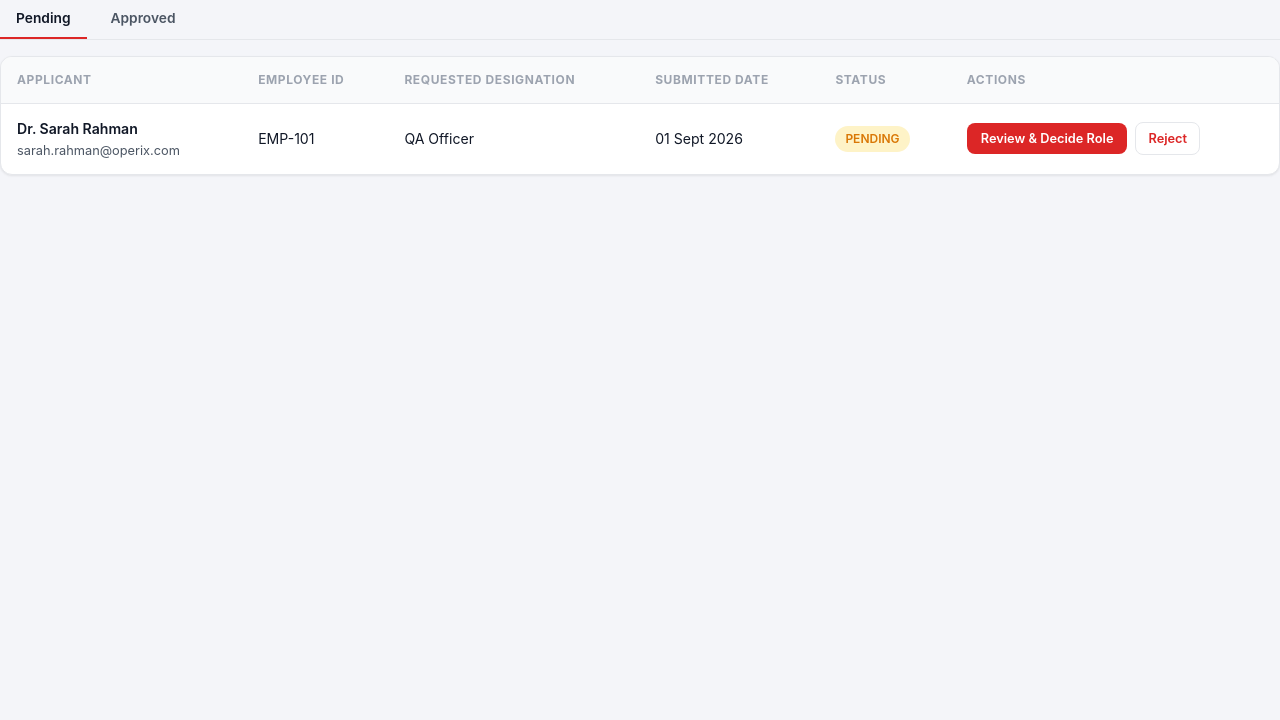
it: RegistrationRequests › reports the truthful approval outcome instead of claiming delivery
The image size is (1280, 720).
Click the button "Review & Decide Role". click: click(1047, 139)
box: left=967, top=123, right=1128, bottom=154
(page scrolled)
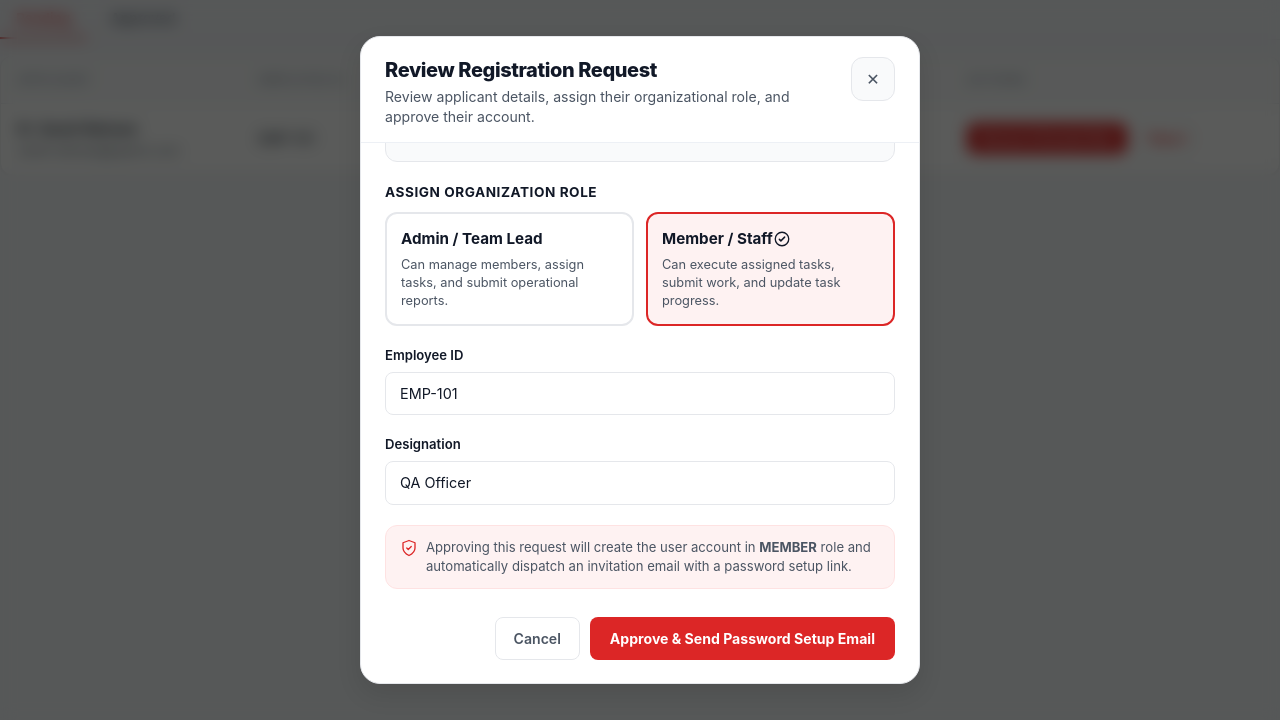
Click the button "Approve & Send Password Setup Email". click: click(742, 638)
box: left=590, top=617, right=895, bottom=660
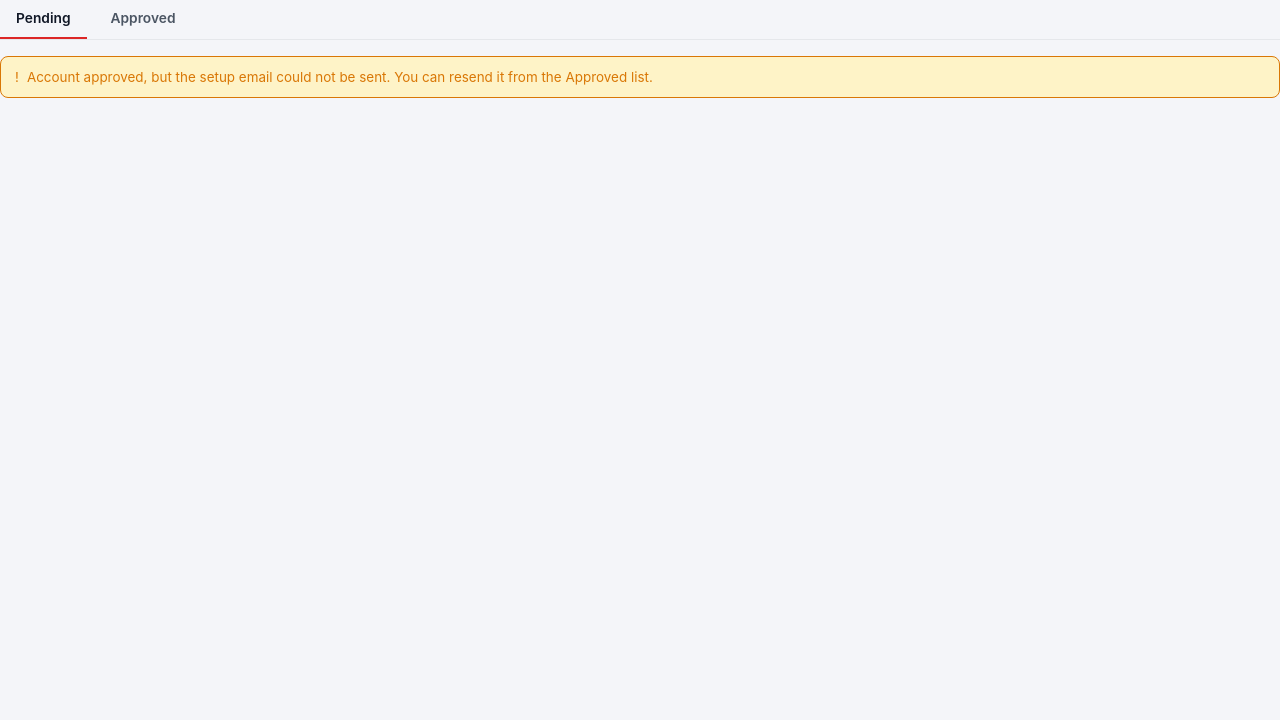
Result: the text "Account approved, but the setup email could not be sent. You can resend it from the Approved list." is shown at left=27, top=69, right=653, bottom=85
